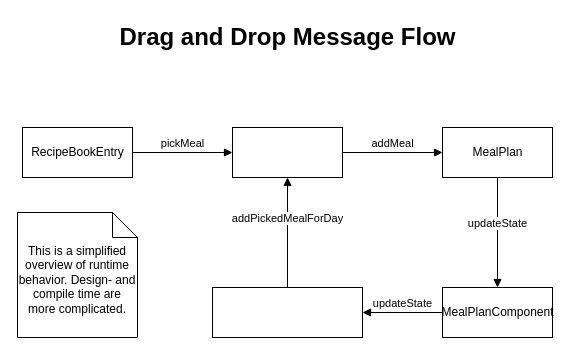
Image size: 571x355. Some labels were removed from this diagram. Each missing label, with the centre of its shape:
Chef: the point at 287,152
MealPlanDayComponent: the point at 287,312
